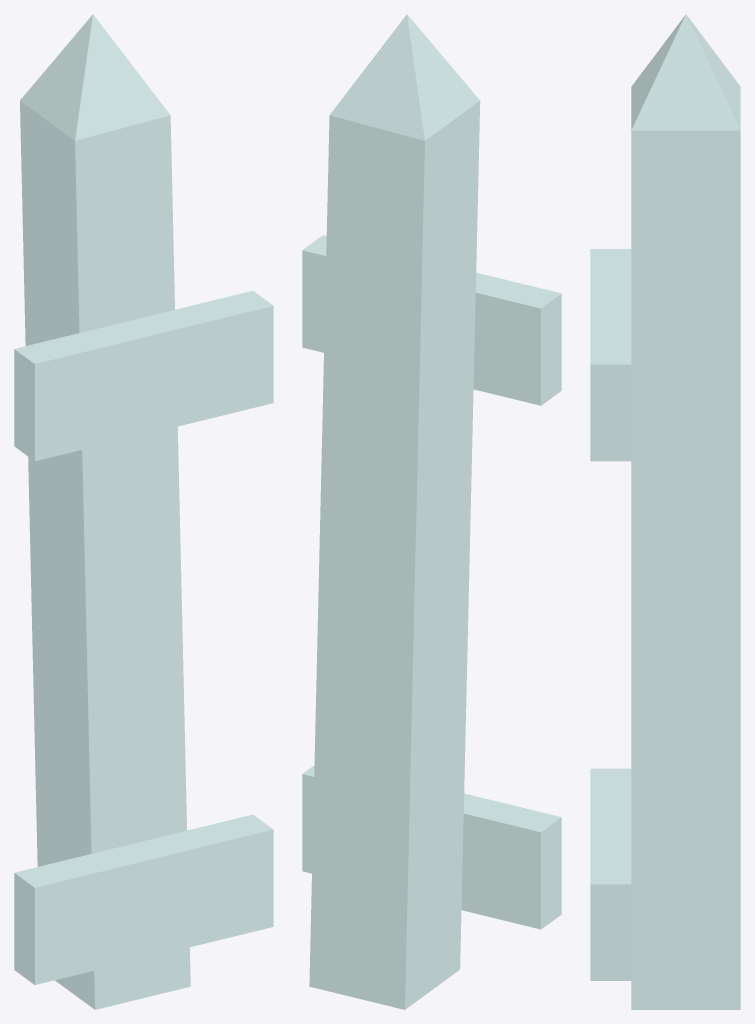
The model's file is tmg-waldo_envir_fence-01_spoke-c.glb.
3 renders of one model, left to right at view 1: azimuth 30°, elevation 25°; view 2: azimuth 150°, elevation 25°; view 3: azimuth 270°, elevation 25°, orthographic.
Parts seen in each view (by area): view 1: envir_fence-01_spoke-c; view 2: envir_fence-01_spoke-c; view 3: envir_fence-01_spoke-c.
Boxes of the visible parts, bbox=[...] form: envir_fence-01_spoke-c: bbox=[14, 14, 273, 1009]; envir_fence-01_spoke-c: bbox=[302, 14, 561, 1009]; envir_fence-01_spoke-c: bbox=[590, 14, 740, 1009].
Bounding box in the file's own units: 0.34 × 1.32 × 0.187.
Materials: 1 (1 with a texture image).
